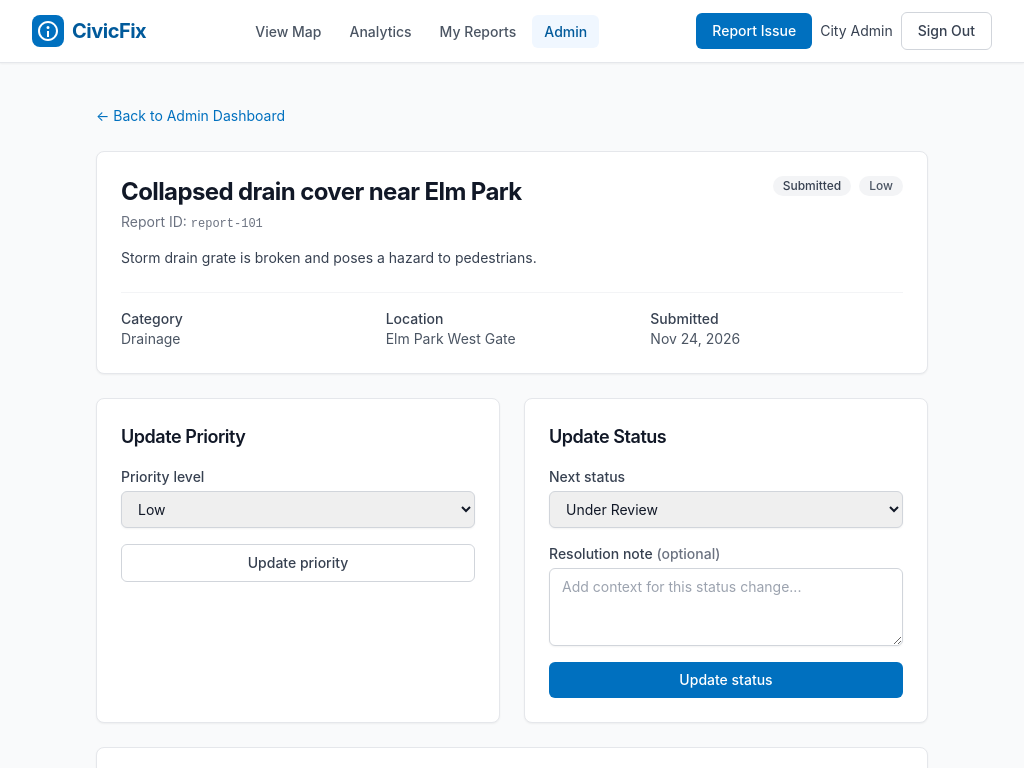
Test: Admin workflow (M3) › shows an alert when update_report_status RPC rejects an update
Expected: the heading "Collapsed drain cover near Elm Park" is shown, [121,176,522,208]
Click the button "Update status" at (726, 680), box [549,662,903,698]
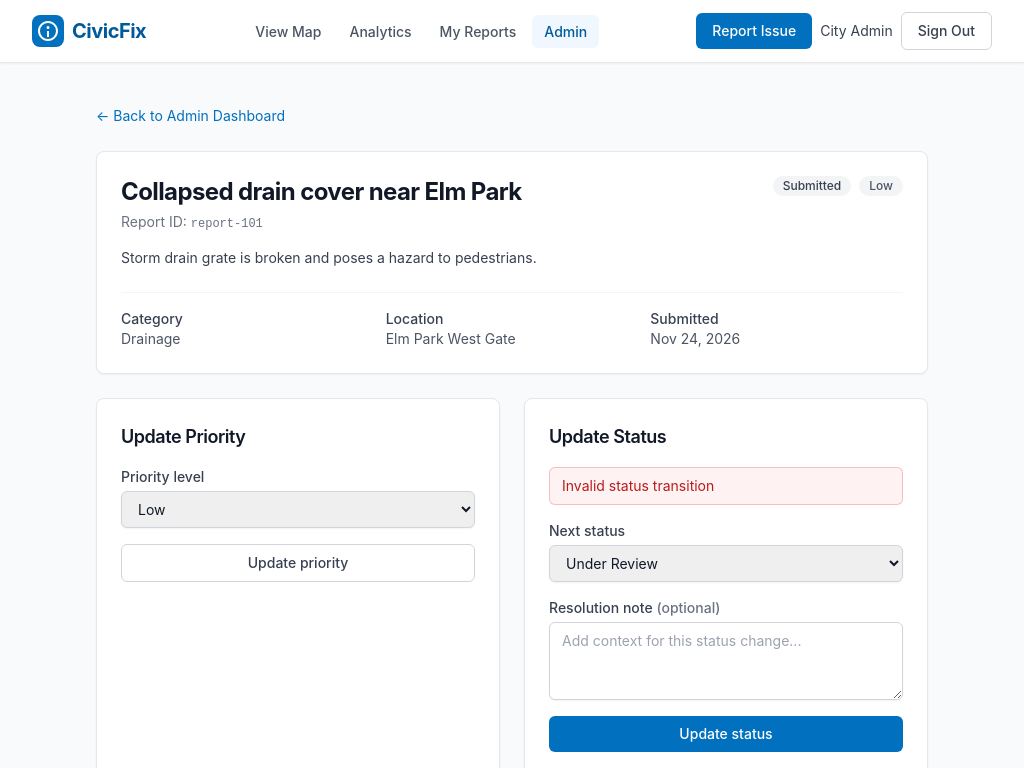
Expected: the message reads "Invalid status transition", [562,477,714,494]
